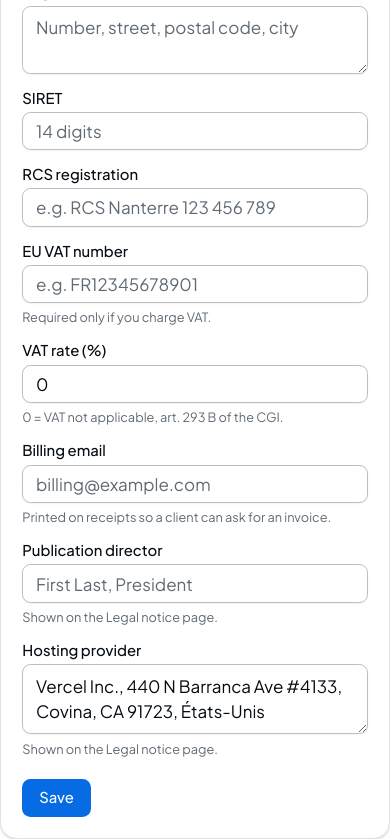
Test case: CompanyIdentityPanel › shows a server refusal under the field it names
The width and height of the screenshot is (390, 839).
(page scrolled)
Click the button "Save": (57, 798) [22,779,91,817]
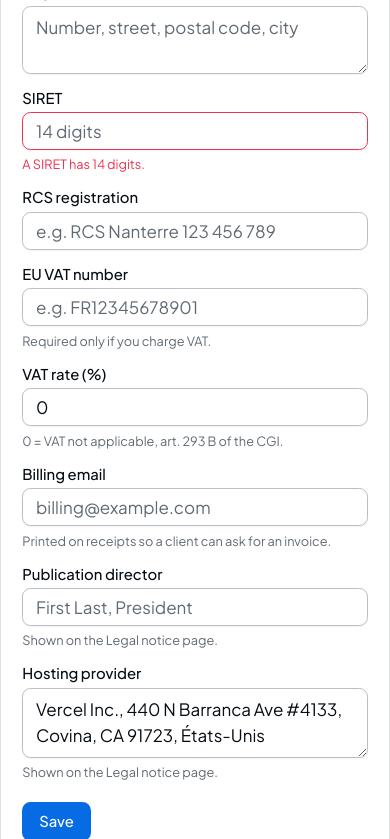
Result: the text "A SIRET has 14 digits." is shown at [22,156,145,172]
